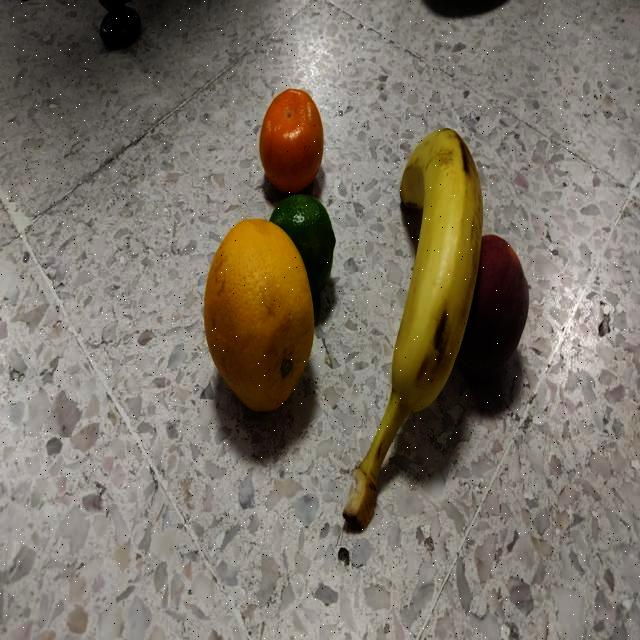Jeruk: (200, 213, 320, 420)
Jeruk Mandarin: (258, 83, 328, 196)
Lemon: (266, 192, 342, 304)
Persik: (452, 228, 534, 382)
Pisang: (338, 121, 486, 535)
